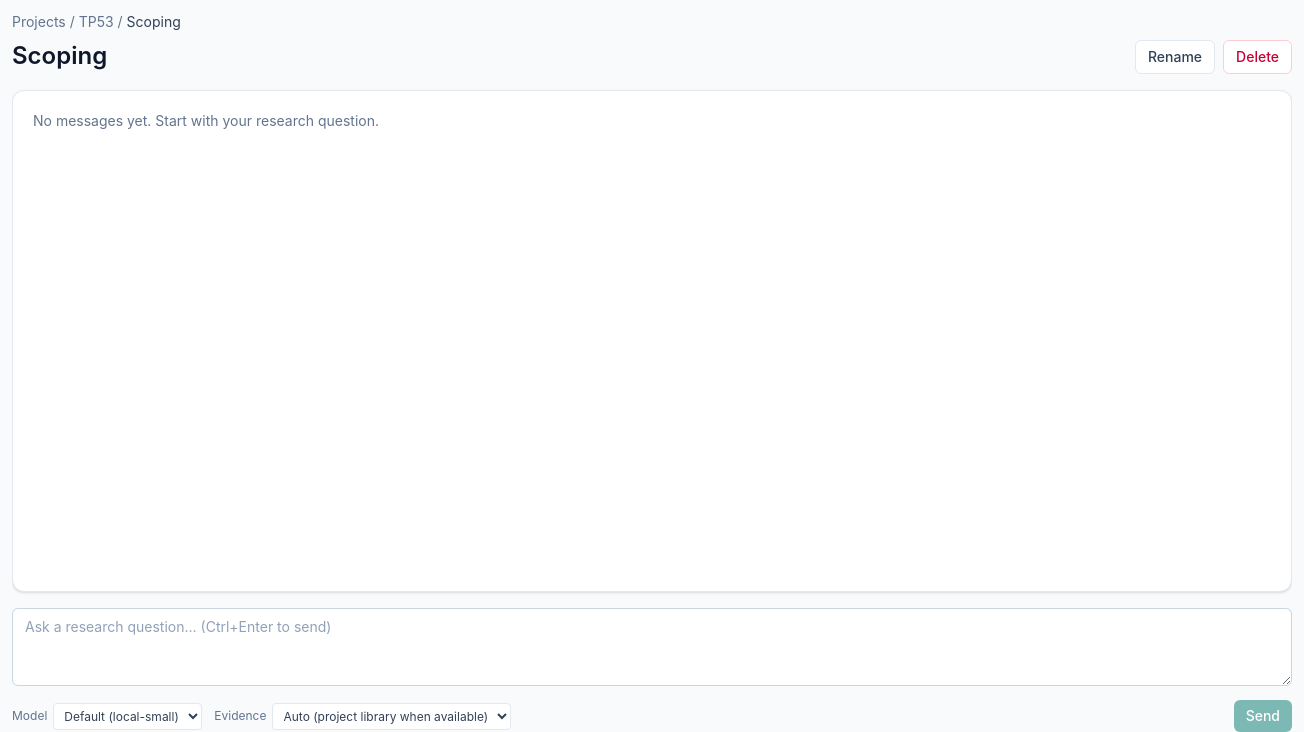
Test: ConversationPage › sends a question, streams the answer and then shows the stored message
The image size is (1304, 732).
Type "What does TP53 encode?" into the text box named "Message". click: (652, 647)
box: [12,608,1292,686]
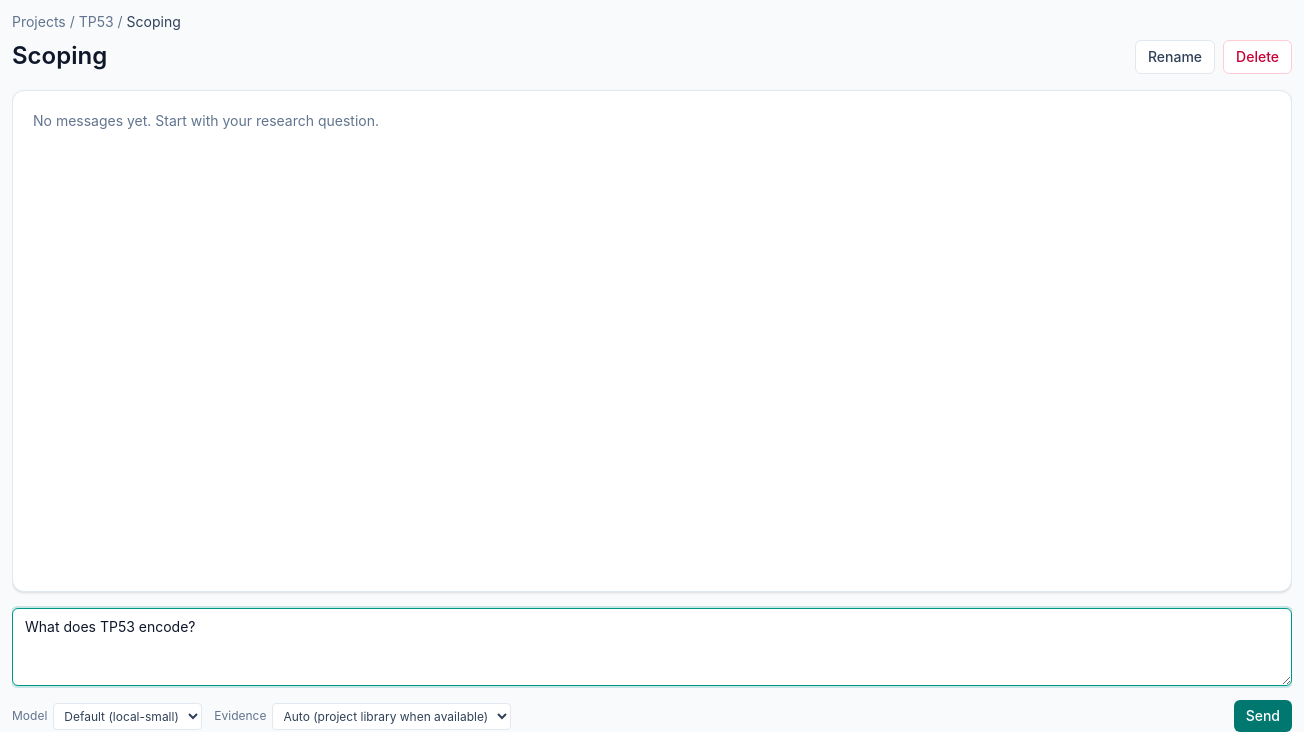
Click the button "Send". click: (1263, 716)
box: [1234,700,1292,731]
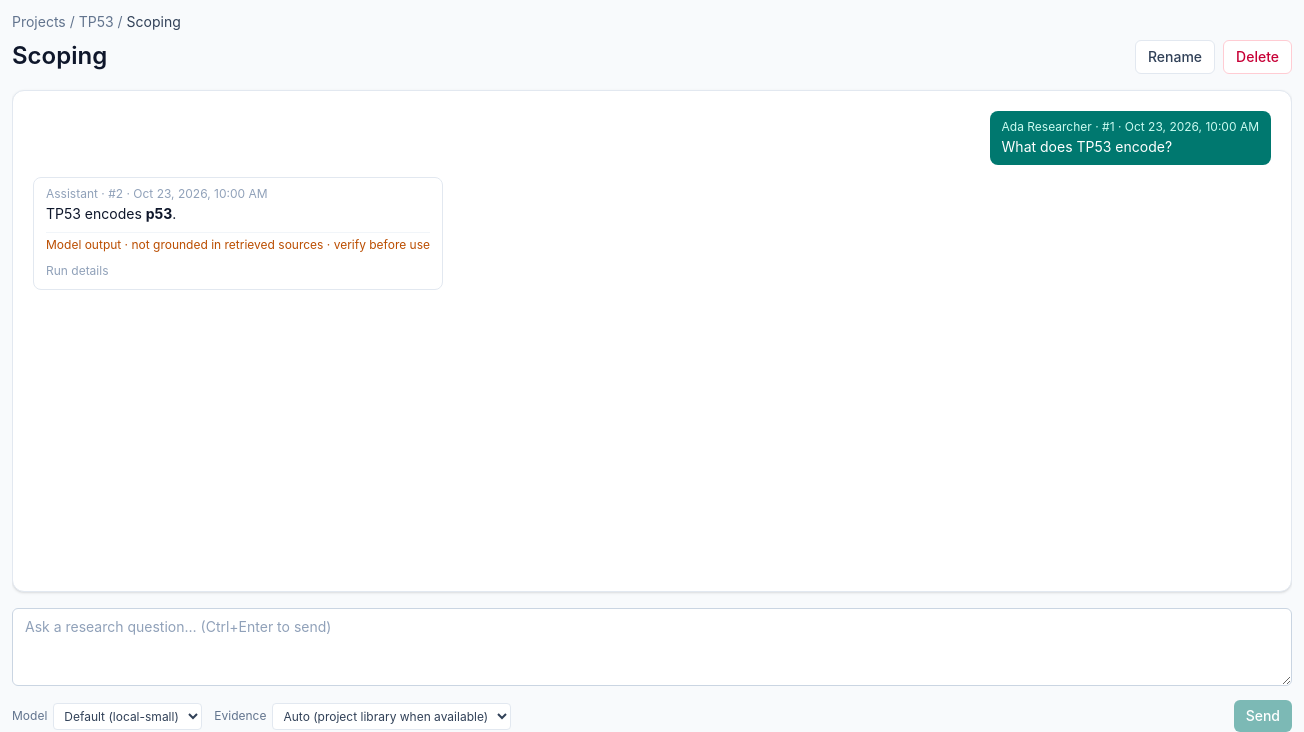
Expected: the text "not grounded in retrieved sources" is shown, [46,237,430,252]
Expected: the text box with placeholder "Ask a research question… (Ctrl+Enter to send)" is empty, [12,608,1292,686]
